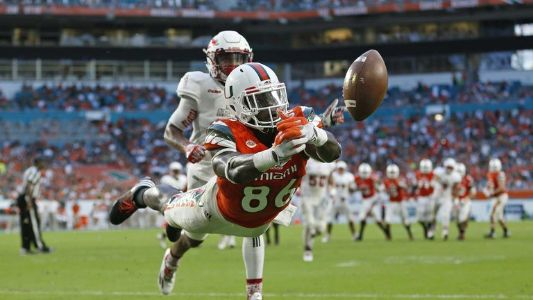futbol americano: (342, 48, 388, 121)
